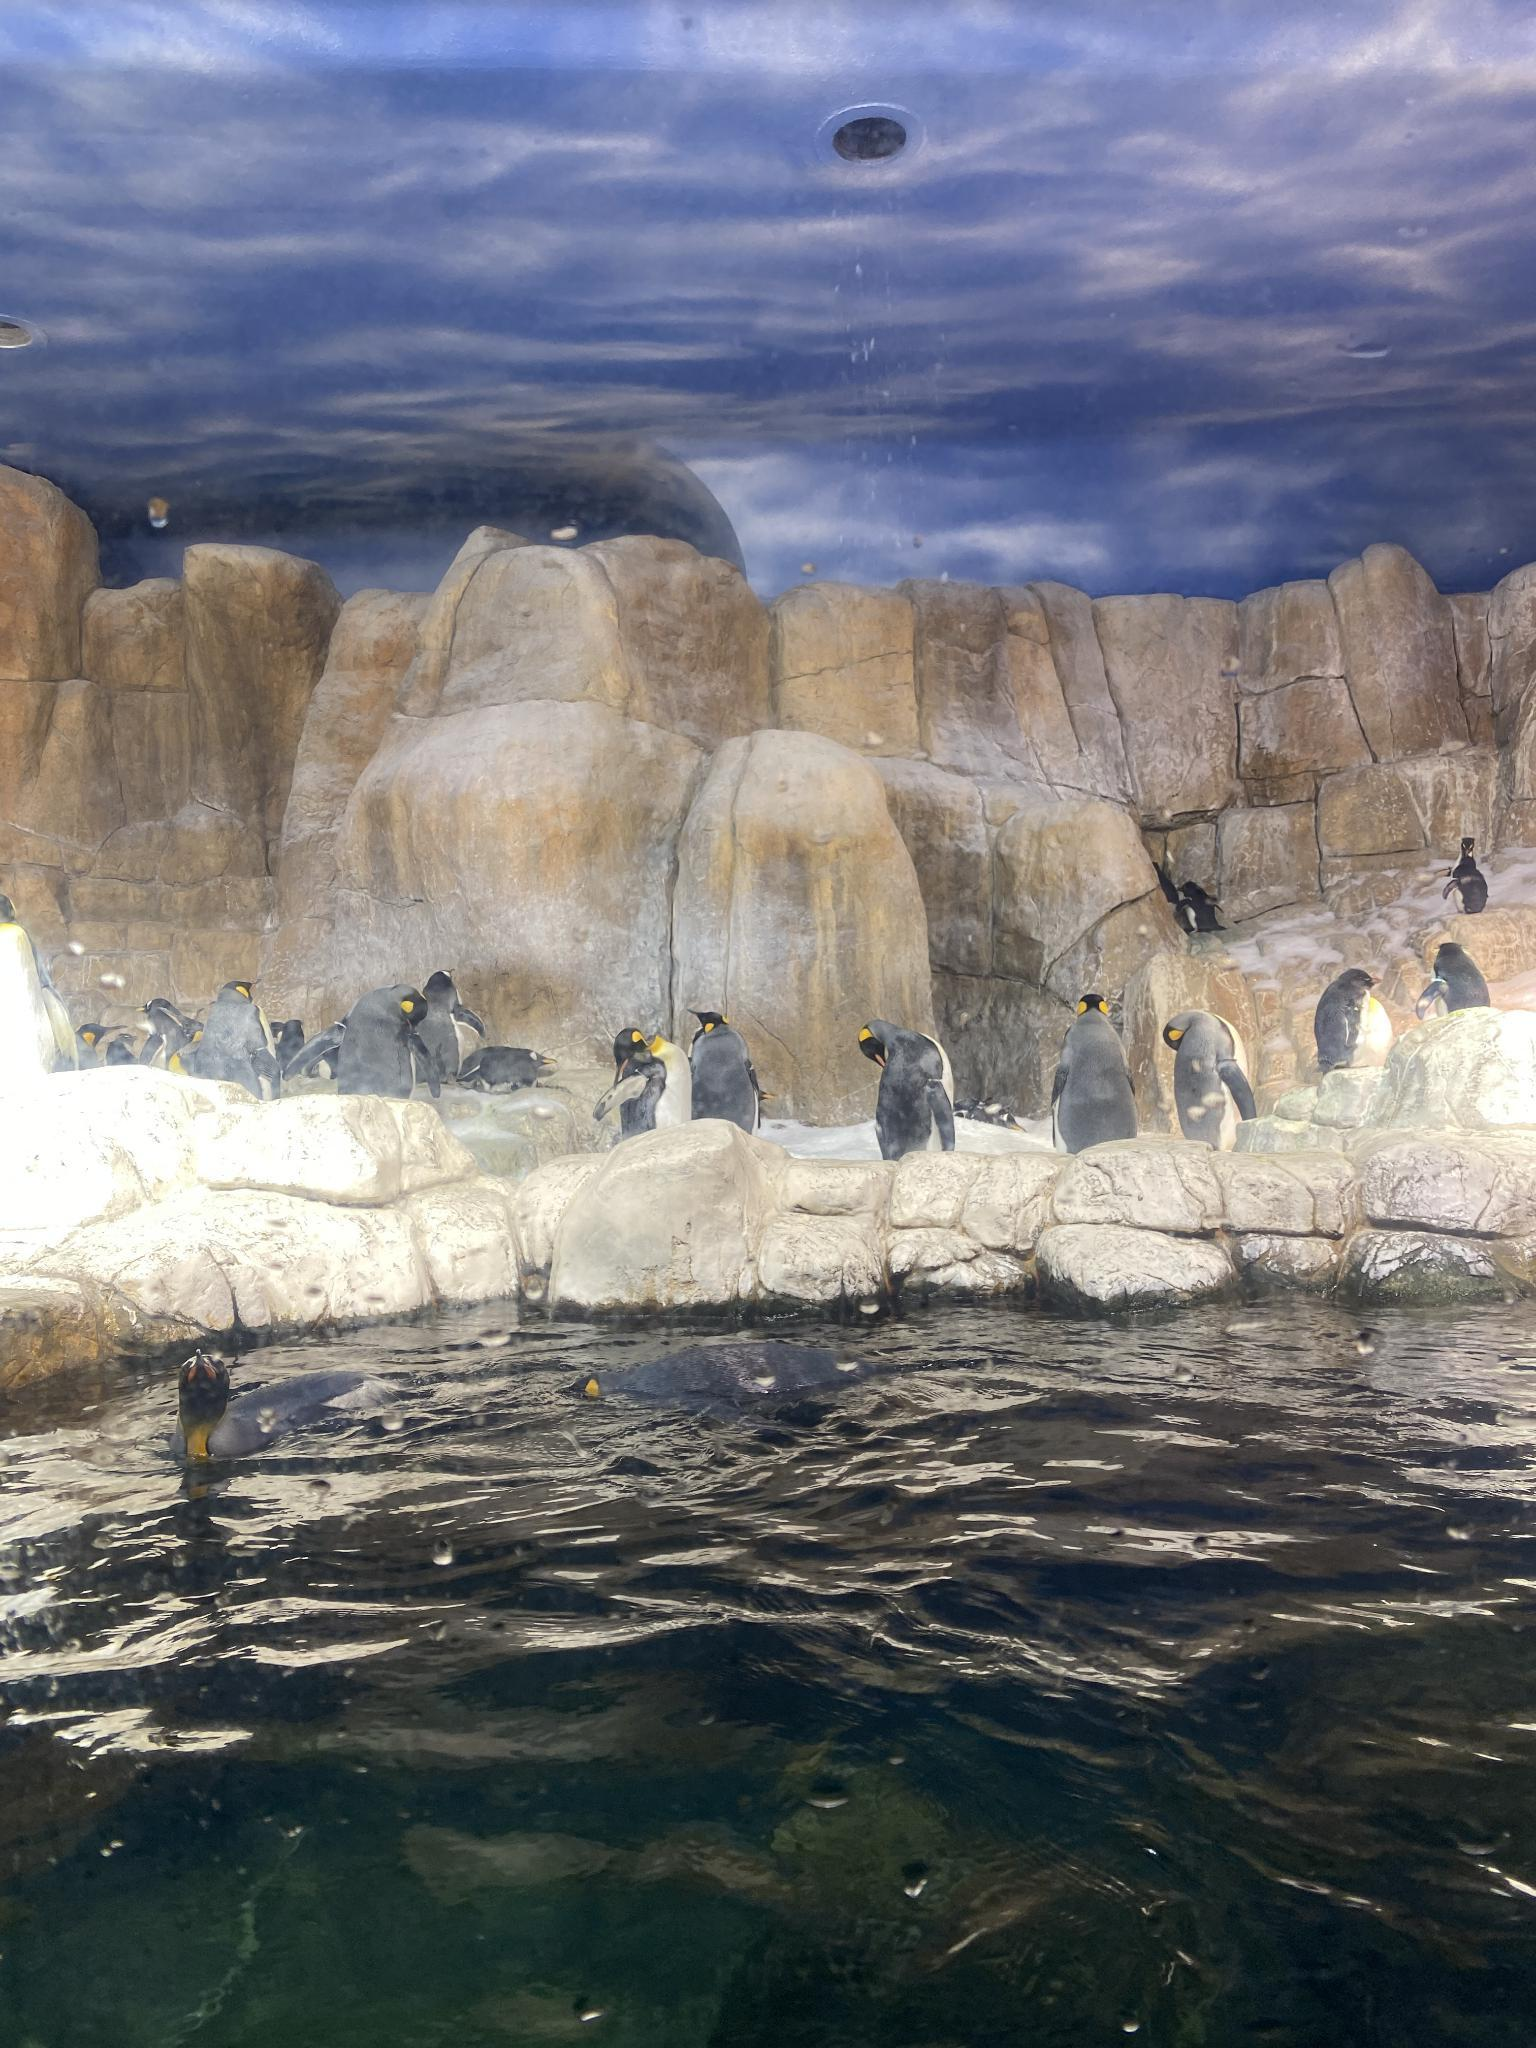penguin: (173, 1351, 429, 1472), (553, 1340, 894, 1427), (857, 1018, 960, 1161), (1047, 993, 1139, 1150), (1167, 1011, 1255, 1155), (678, 1011, 766, 1137), (595, 1026, 691, 1135), (340, 989, 426, 1101), (0, 897, 52, 1074), (411, 969, 486, 1084), (1317, 968, 1392, 1079), (202, 977, 271, 1090), (1415, 942, 1489, 1024), (298, 1014, 366, 1087), (139, 993, 198, 1071), (461, 1047, 553, 1089), (1439, 835, 1489, 910), (63, 1018, 111, 1072), (266, 1014, 302, 1072)
